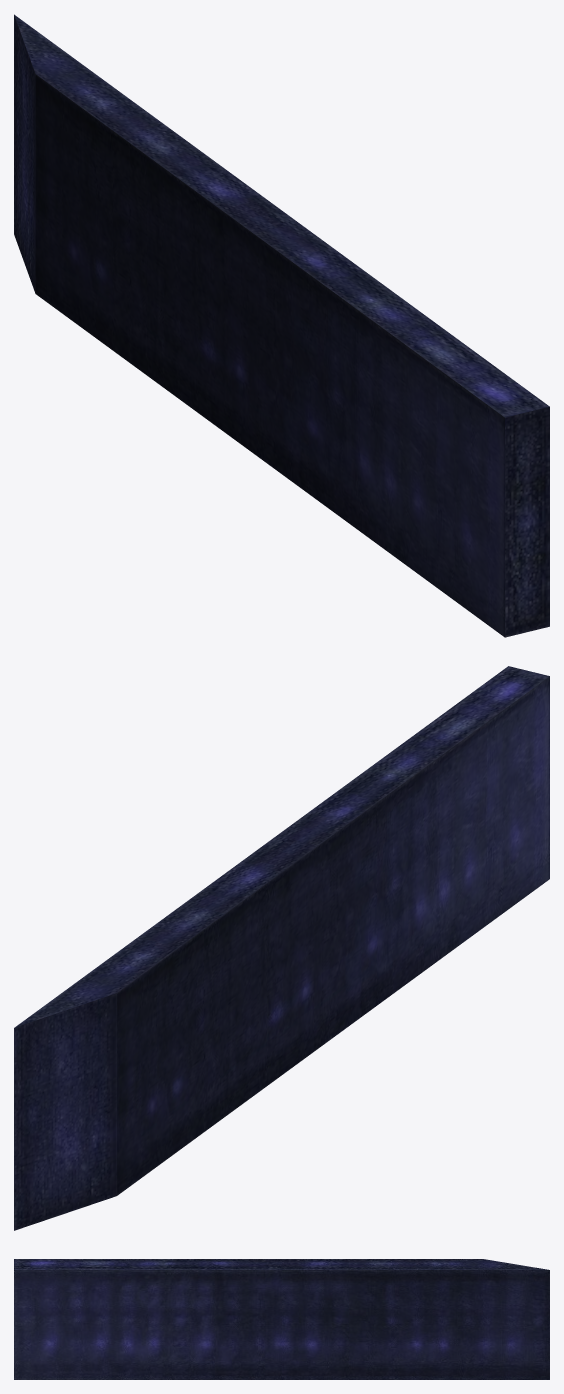
File: raque_side_lvl_4.glb
3 views of the same model, one above another, from view 1: azimuth 30°, elevation 25°; view 2: azimuth 150°, elevation 25°; view 3: azimuth 270°, elevation 25° (orthographic). The views are drawn at different scales.
Visible parts, largest first — view 1: Mesh_0; view 2: Mesh_0; view 3: Mesh_0.
Boxes of the visible parts, x1=… form: Mesh_0: x1=14, y1=14, x2=549, y2=637; Mesh_0: x1=14, y1=666, x2=549, y2=1230; Mesh_0: x1=14, y1=1259, x2=549, y2=1379.
Bounding box in the file's own units: 0.00928 × 0.0433 × 0.1914.
Materials: 1 (1 with a texture image).
